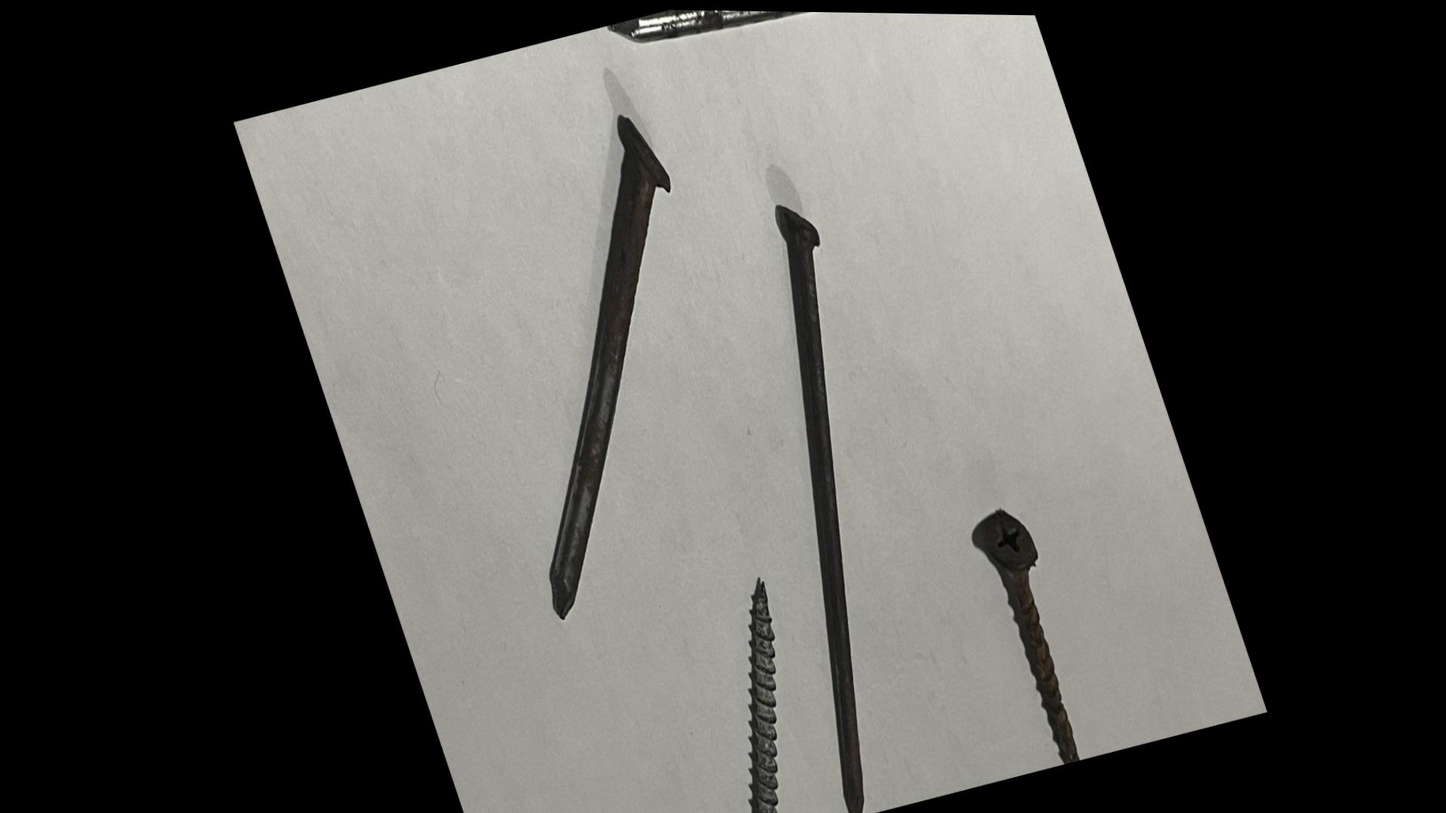nail: (643, 162, 1002, 813), (390, 90, 798, 635), (602, 7, 926, 96)
screw: (604, 561, 836, 813), (947, 479, 1099, 767)
